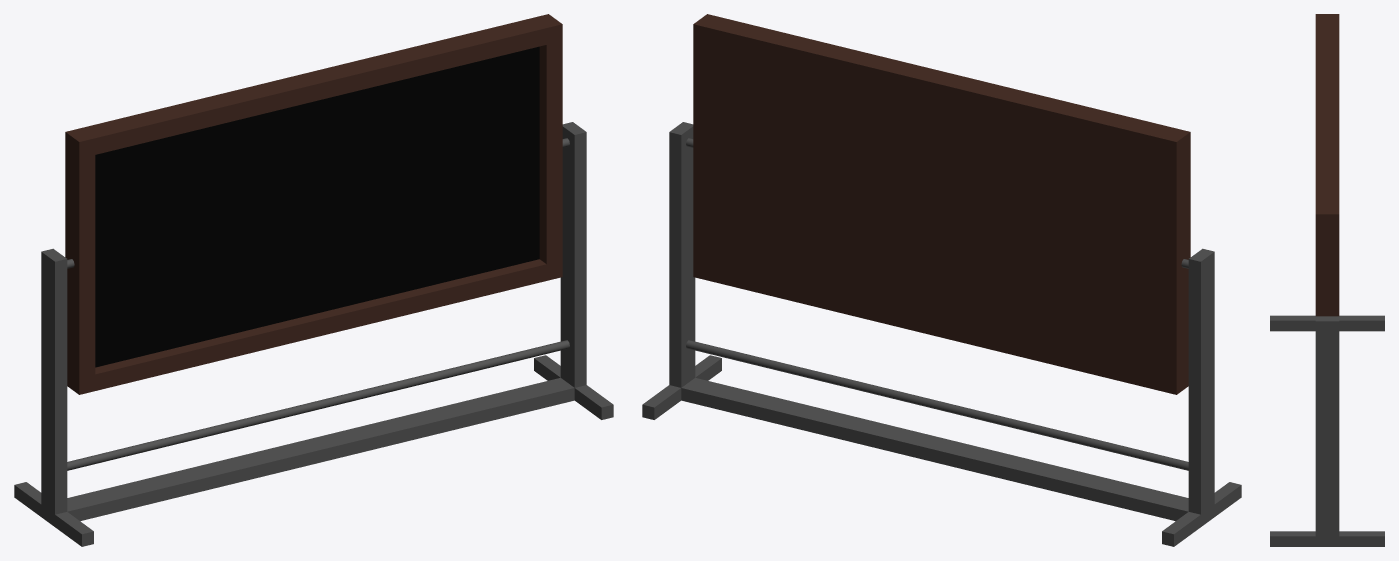
Rendered from blackboard.fbx.
3 renders of one model, left to right at view 1: azimuth 30°, elevation 25°; view 2: azimuth 150°, elevation 25°; view 3: azimuth 270°, elevation 25°, orthographic. The views are drawn at different scales.
Visible parts, largest first — view 1: Cube; view 2: Cube; view 3: Cube.
Boxes of the visible parts, x1,y1,x2,y2 form: Cube: (14,14,613,546); Cube: (642,14,1241,546); Cube: (1270,14,1384,546).
Bounding box in the file's own units: 440 × 300 × 96.91.
